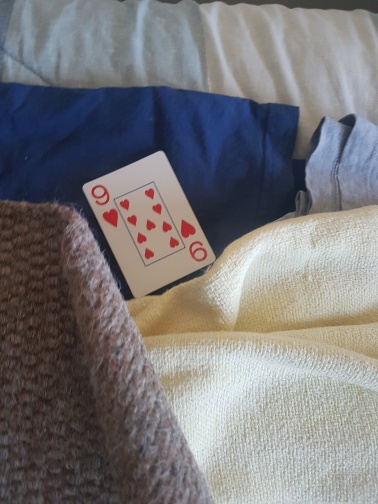nine: (81, 151, 216, 298)
